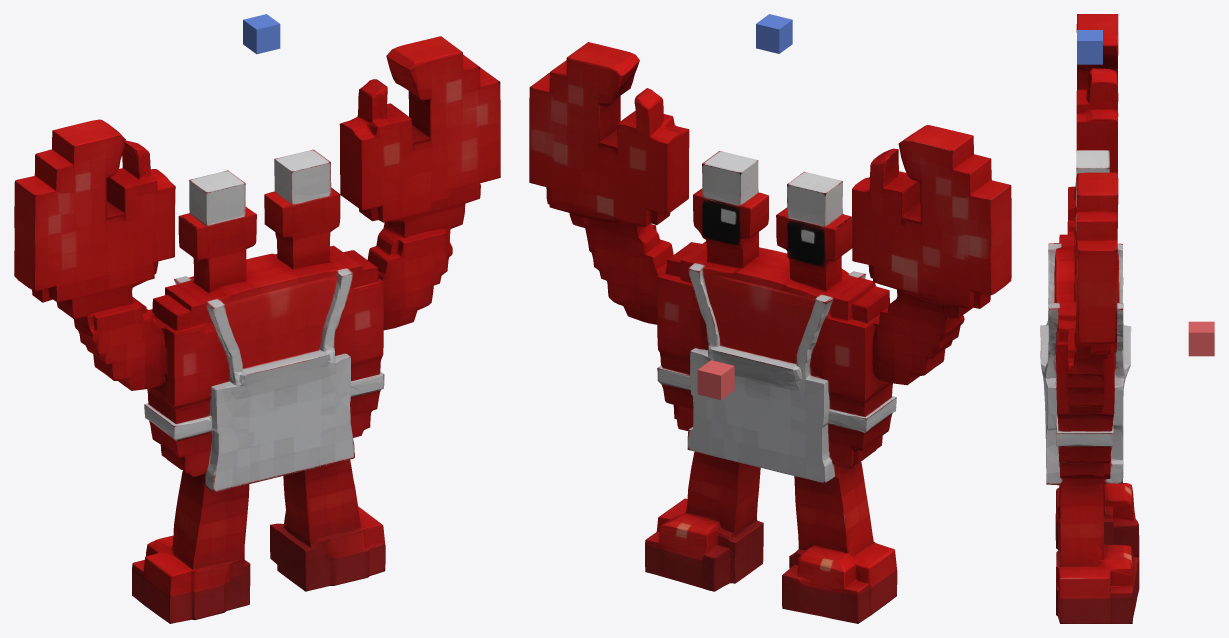
Rendered from ChefCrabracadabra.glb.
The picture shows the model from 3 angles, left to right: view 1: azimuth 30°, elevation 25°; view 2: azimuth 150°, elevation 25°; view 3: azimuth 270°, elevation 25°; orthographic projection. The views are drawn at different scales.
Parts seen in each view (by area): view 1: ChefCrabracadabra_Body, ChefCrabracadabra_Leg2, ChefCrabracadabra_Leg1, ChefCrabracadabra_Top; view 2: ChefCrabracadabra_Body, ChefCrabracadabra_Leg2, ChefCrabracadabra_Leg1, ChefCrabracadabra_Front, ChefCrabracadabra_Top; view 3: ChefCrabracadabra_Body, ChefCrabracadabra_Leg1, ChefCrabracadabra_Leg2, ChefCrabracadabra_Front, ChefCrabracadabra_Top.
Part boxes in pixels (x1,y1,x2,y2): ChefCrabracadabra_Body: (14, 36, 500, 585); ChefCrabracadabra_Leg2: (132, 483, 250, 623); ChefCrabracadabra_Leg1: (270, 464, 385, 591); ChefCrabracadabra_Top: (243, 14, 280, 54); ChefCrabracadabra_Body: (529, 42, 1011, 494); ChefCrabracadabra_Leg2: (782, 467, 897, 623); ChefCrabracadabra_Leg1: (645, 455, 763, 591); ChefCrabracadabra_Front: (697, 360, 734, 399); ChefCrabracadabra_Top: (756, 14, 792, 53); ChefCrabracadabra_Body: (1040, 14, 1131, 501); ChefCrabracadabra_Leg1: (1056, 484, 1139, 623); ChefCrabracadabra_Leg2: (1055, 483, 1139, 557); ChefCrabracadabra_Front: (1188, 321, 1214, 356); ChefCrabracadabra_Top: (1077, 30, 1102, 64).
Bounding box in the file's own units: 4.95 × 5.72 × 1.68.
1 material, 1 textured.
